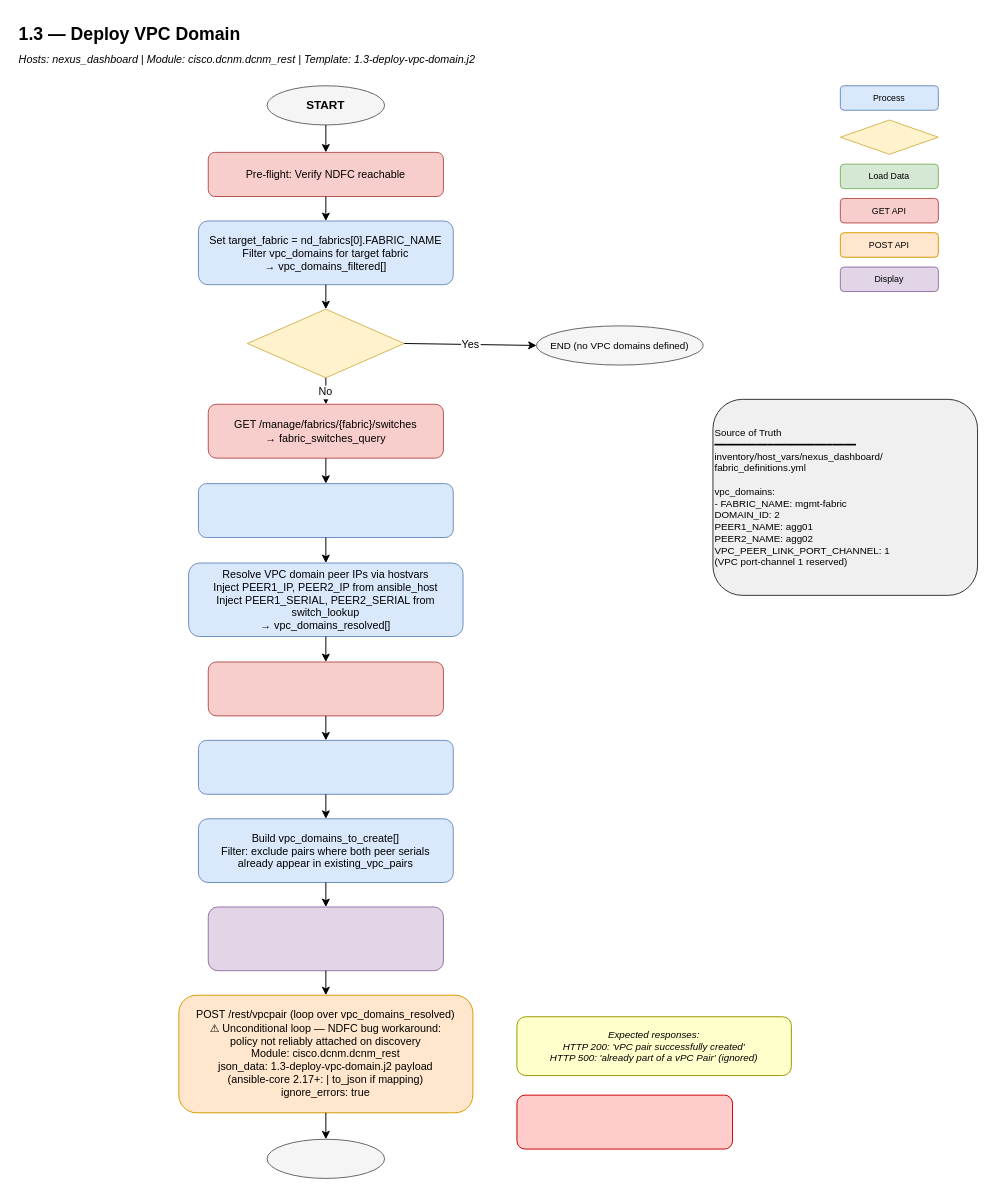
Some shapes in this 995 by 1196 pixel diagram are drawn without their labels. The shapes that lost their labels are listed below. From the top down, each one's centre as x and y in pixels, then its label:
At [888,136]: "Decision".
At [325,343]: "vpc_domains_filtered empty?".
At [325,510]: "Build switch_lookup{fabric→{ip→{serial, hostname}}} Keyed by fabricManagementIp".
At [325,688]: "GET /manage/fabrics/{fabric}/vpcPairs → existing_vpc_pairs".
At [325,766]: "Build existing_vpc_serials[] (peer1SwitchId + peer2SwitchId from each pair)".
At [325,938]: "Display VPC pair status: • SKIP — already in NDFC • CREATE — missing from NDFC".
At [624,1121]: "TODO: Restore loop to vpc_domains_to_create once NDFC bug is confirmed fixed".
At [325,1158]: "END".
